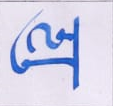o_matra: (6, 10, 48, 50)
